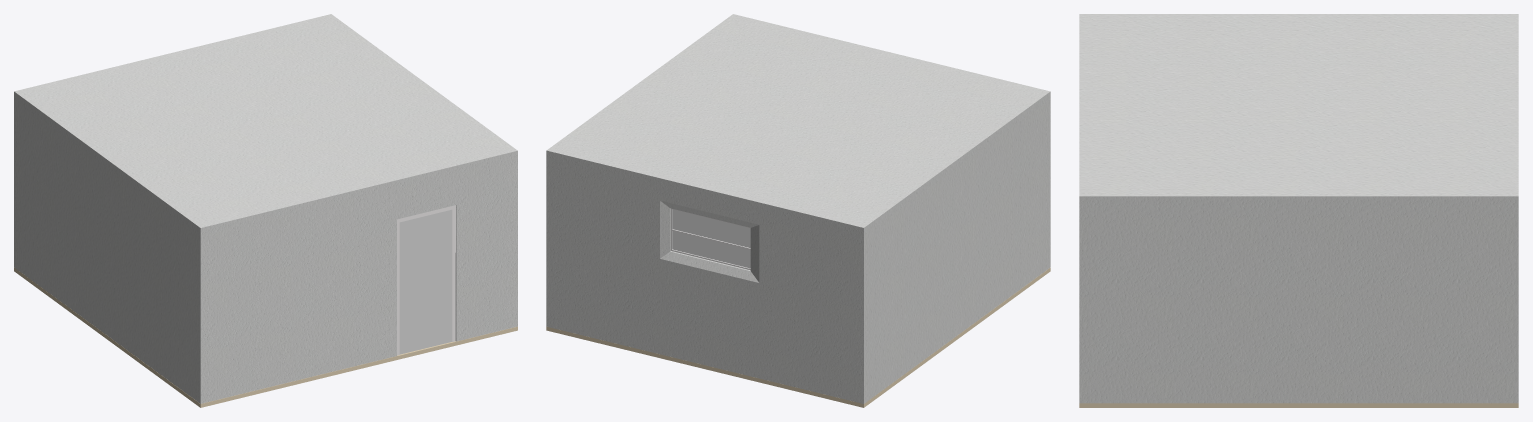
The model's file is FloorPlan402_physics.fbx.
3 renders of one model, left to right at view 1: azimuth 30°, elevation 25°; view 2: azimuth 150°, elevation 25°; view 3: azimuth 270°, elevation 25°, orthographic. The views are drawn at different scales.
Parts seen in each view (by area): view 1: FP402:Walls, FP402:Ceiling, FP402:Door.001, FP402:Floor, FP402:DoorFrame.001; view 2: FP402:Walls, FP402:Ceiling, FP402:polySurface14, FP402:Floor, FP402:polySurface11; view 3: FP402:Walls, FP402:Ceiling, FP402:Floor.
Boxes of the visible parts, <box> form: FP402:Walls: <box>14,99,517,403</box>; FP402:Ceiling: <box>14,14,517,235</box>; FP402:Door.001: <box>399,209,452,354</box>; FP402:Floor: <box>14,267,517,407</box>; FP402:DoorFrame.001: <box>397,205,455,355</box>; FP402:Walls: <box>546,99,1050,403</box>; FP402:Ceiling: <box>546,14,1050,235</box>; FP402:polySurface14: <box>672,209,750,268</box>; FP402:Floor: <box>546,267,1050,407</box>; FP402:polySurface11: <box>671,208,750,270</box>; FP402:Walls: <box>1079,205,1518,403</box>; FP402:Ceiling: <box>1079,14,1518,205</box>; FP402:Floor: <box>1079,403,1518,407</box>.
Bounding box in the file's own units: 506 × 274 × 515.
